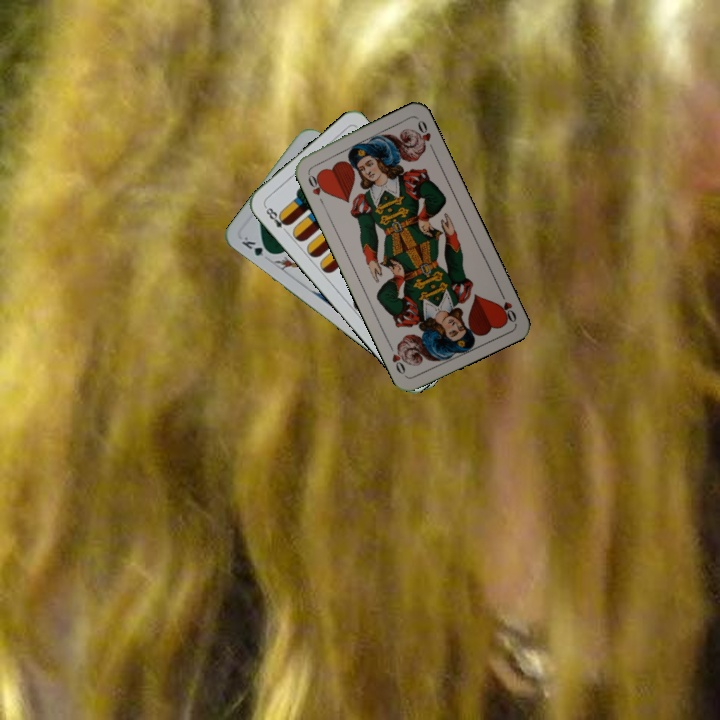E8: (261, 202, 292, 236)
GK: (237, 232, 275, 263)
HO: (303, 168, 329, 207), (494, 286, 519, 325)
